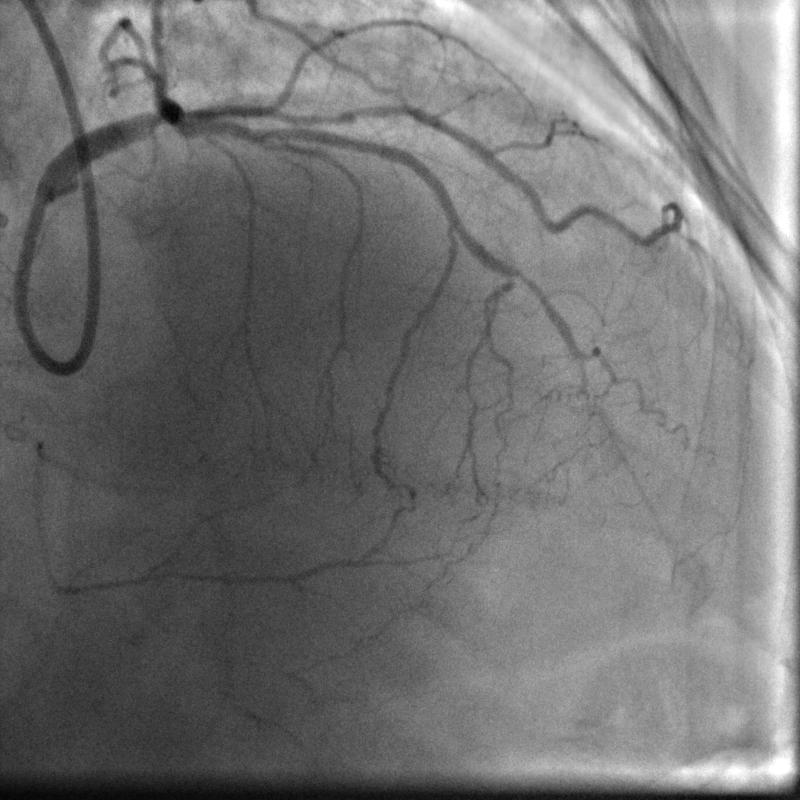Stenosis: (134, 96, 168, 137)
